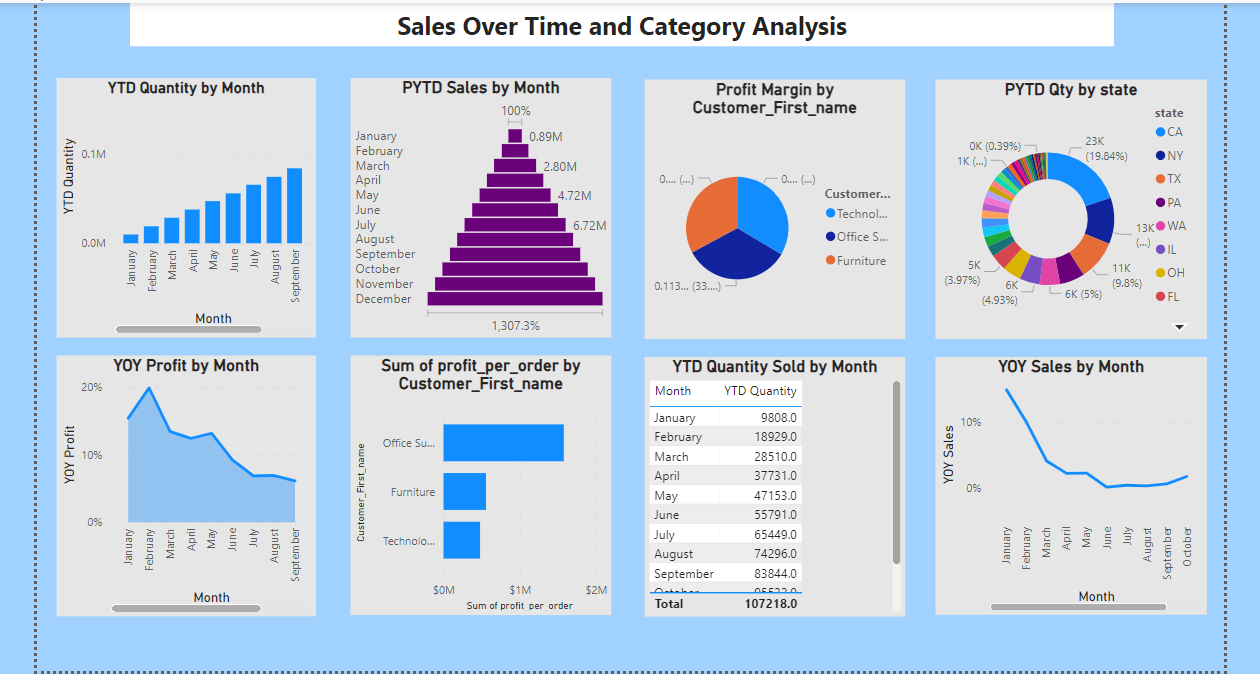

The dashboard page shown, as its layout file describes it:
{"tool":"powerbi","page":{"name":"Page 2","canvas":[1280,720],"ordinal":1},"visuals":[{"type":"columnChart","fields":{"Category":["Calendar.Month"],"Y":["ecommerce_data.YTD Quantity"]},"box":[21,80.9,279.9,279.9],"z":0},{"type":"stackedAreaChart","fields":{"Category":["Calendar.Month"],"Y":["ecommerce_data.YOY Profit"]},"box":[21,380.2,279.9,281.5],"z":1000},{"type":"funnel","fields":{"Y":["ecommerce_data.PYTD Sales"],"Category":["Calendar.Month"]},"box":[338.2,80.9,281.5,279.9],"z":2000},{"type":"clusteredBarChart","fields":{"Category":["ecommerce_data.Category"],"Y":["Sum(ecommerce_data.profit_per_order)"]},"box":[338.2,380.2,281.5,279.9],"z":3000},{"type":"donutChart","fields":{"Category":["us_state_long_lat_codes.state"],"Y":["ecommerce_data.PYTD Qty"]},"box":[969.2,82.5,292.9,279.9],"z":4000},{"type":"lineChart","fields":{"Category":["Calendar.Month"],"Y":["ecommerce_data.YOY Sales"]},"box":[969.2,381.8,292.9,278.3],"z":5000},{"type":"tableEx","title":"YTD Quantity Sold by Month","fields":{"Values":["Calendar.Month","ecommerce_data.YTD Quantity"]},"box":[655.3,381.8,281.5,279.9],"z":6000},{"type":"pieChart","fields":{"Category":["ecommerce_data.Category"],"Y":["ecommerce_data.Profit Margin"]},"box":[655.3,82.5,281.5,279.9],"z":7000},{"type":"textbox","box":[100.3,0,1061.4,46.9],"z":8000}]}

Visuals, with their boxes on the page's 1280x720 design canvas (x1, y1, x2, y2). These are canvas units, not pixel positions in the 1260x674 screenshot, which may show the page scaled, cropped or inside an application window:
columnChart - Calendar.Month x ecommerce_data.YTD Quantity: [21, 81, 301, 361]
stackedAreaChart - Calendar.Month x ecommerce_data.YOY Profit: [21, 380, 301, 662]
funnel - ecommerce_data.PYTD Sales x Calendar.Month: [338, 81, 620, 361]
clusteredBarChart - ecommerce_data.Category x Sum(ecommerce_data.profit_per_order): [338, 380, 620, 660]
donutChart - us_state_long_lat_codes.state x ecommerce_data.PYTD Qty: [969, 82, 1262, 362]
lineChart - Calendar.Month x ecommerce_data.YOY Sales: [969, 382, 1262, 660]
"YTD Quantity Sold by Month" tableEx: [655, 382, 937, 662]
pieChart - ecommerce_data.Category x ecommerce_data.Profit Margin: [655, 82, 937, 362]
textbox: [100, 0, 1162, 47]
